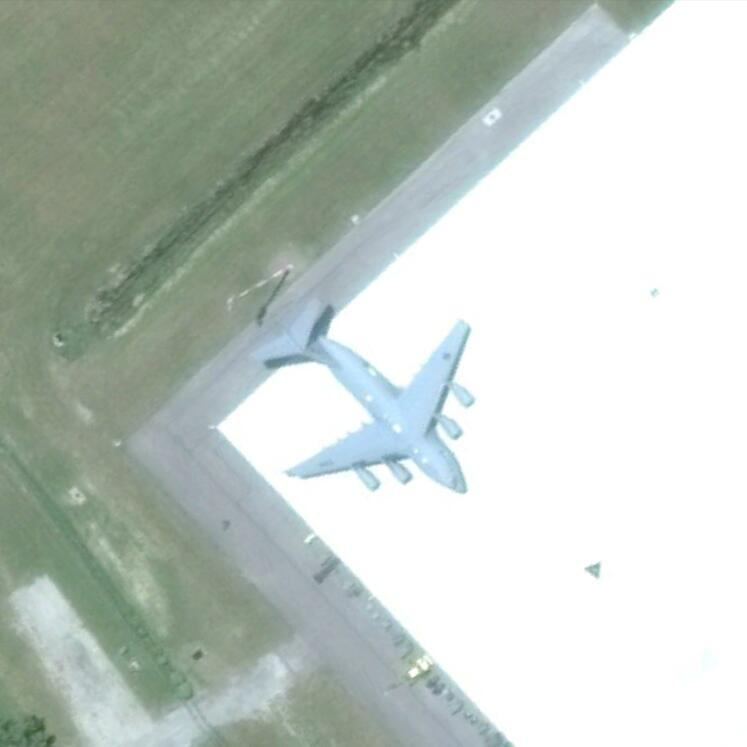A3: (256, 295, 475, 498)
